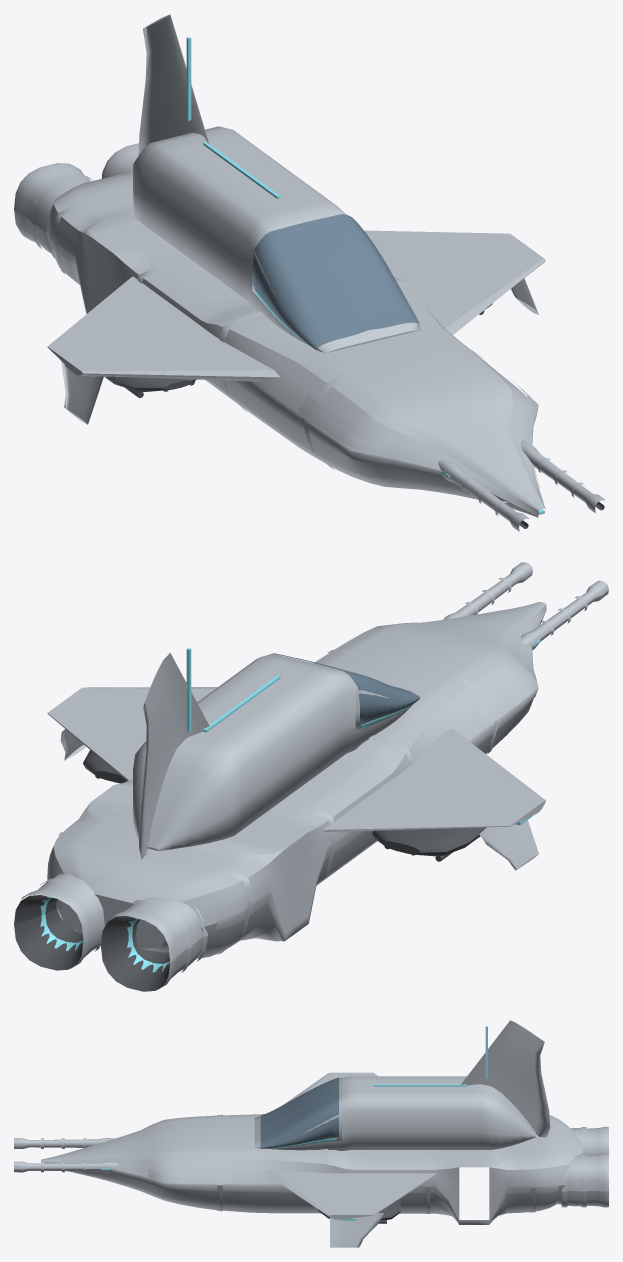
Rendered from pike-hull.glb.
3 renders of one model, top to bottom at view 1: azimuth 30°, elevation 25°; view 2: azimuth 150°, elevation 25°; view 3: azimuth 270°, elevation 25°, orthographic. The views are drawn at different scales.
Parts seen in each view (by area): view 1: hull, accent, glass, trim, dark, glow; view 2: hull, accent, dark, trim, glow, glass; view 3: hull, accent, trim, glass, glow, dark.
Boxes of the visible parts, <box> form: hull: <box>47,126,545,517</box>; accent: <box>14,14,605,532</box>; glass: <box>252,214,419,350</box>; trim: <box>31,165,583,516</box>; dark: <box>104,303,604,528</box>; glow: <box>65,37,544,514</box>; hull: <box>47,602,546,958</box>; accent: <box>21,562,608,990</box>; dark: <box>14,750,486,991</box>; trim: <box>39,577,587,972</box>; glow: <box>40,639,540,972</box>; glass: <box>272,653,419,724</box>; hull: <box>41,1076,582,1222</box>; accent: <box>14,1020,608,1247</box>; trim: <box>41,1077,586,1224</box>; glass: <box>260,1077,338,1148</box>; glow: <box>101,1026,487,1220</box>; dark: <box>317,1199,400,1223</box>.
Size of the model in its own units: 11.2 by 6.55 by 19.78.
